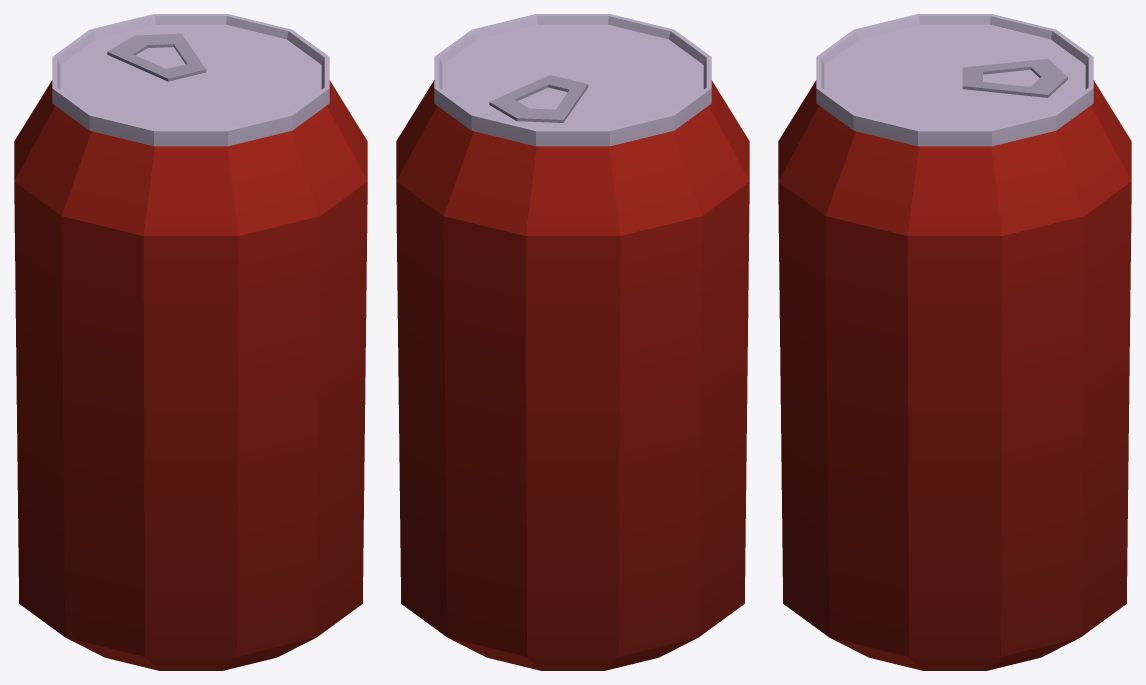
Rendered from Prop_Can_01.obj.
The picture shows the model from 3 angles, left to right: view 1: azimuth 30°, elevation 25°; view 2: azimuth 150°, elevation 25°; view 3: azimuth 270°, elevation 25°; orthographic projection.
Parts seen in each view (by area): view 1: Prop_Can_01; view 2: Prop_Can_01; view 3: Prop_Can_01.
Part boxes in pixels (box(x1,y1,x2,y2)): Prop_Can_01: box(14, 14, 367, 670); Prop_Can_01: box(396, 14, 749, 670); Prop_Can_01: box(778, 14, 1131, 670).
Size of the model in its own units: 0.06 by 0.1028 by 0.06.
1 material, 1 textured.
